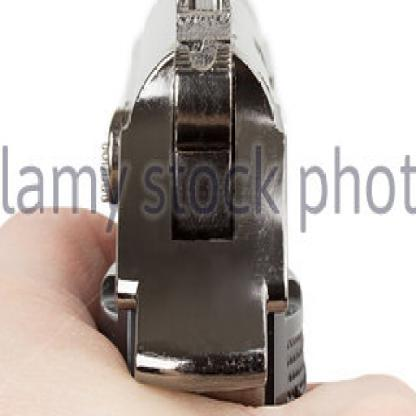gun: (87, 0, 335, 414)
